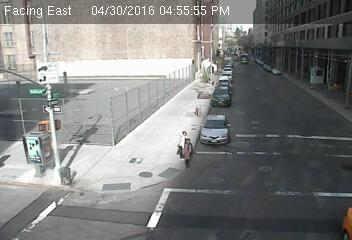neg: (263, 95, 285, 124), (189, 71, 206, 94), (124, 76, 140, 97), (149, 17, 164, 37), (98, 131, 112, 149), (92, 36, 106, 54), (78, 105, 90, 122)
pos: (182, 137, 203, 166), (168, 128, 186, 151)
